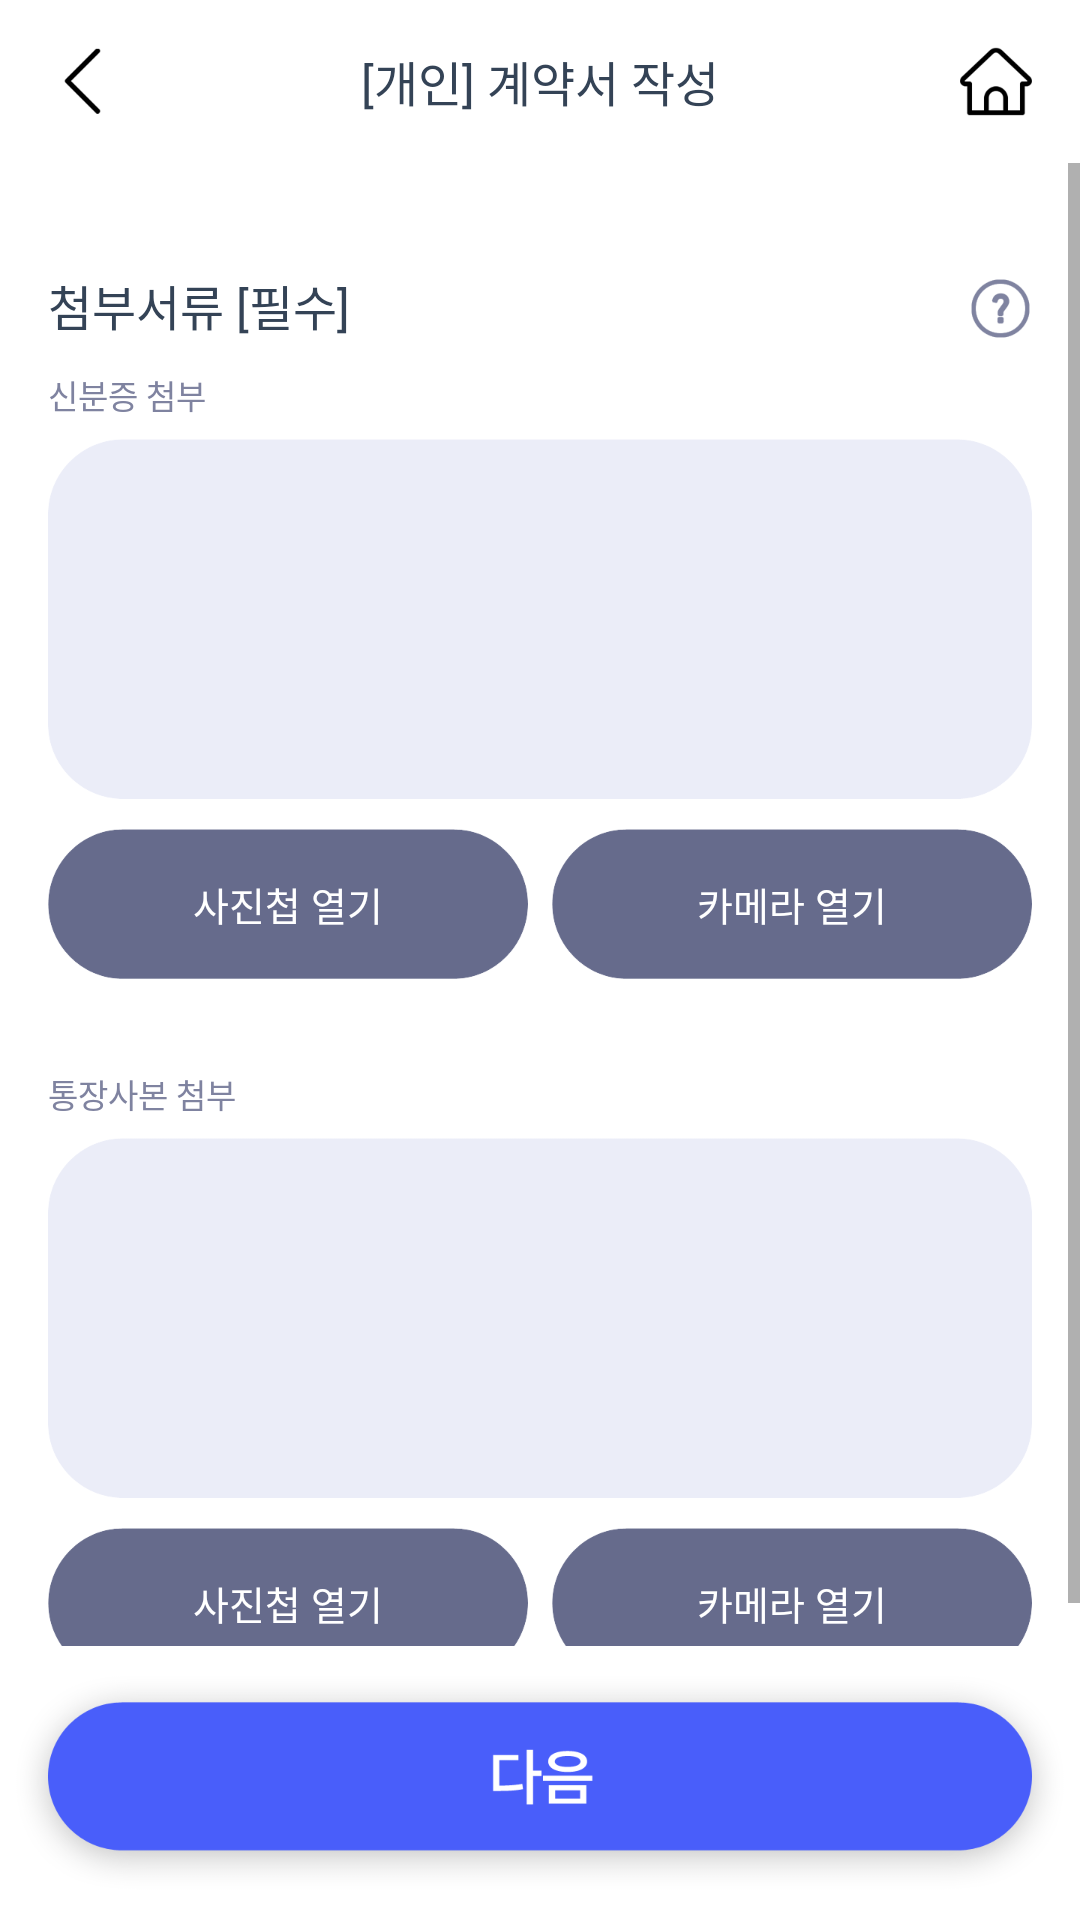

Screen size 1080 × 1920. Icon name, then its box in pixels as (x1, y1, x2, y2):
help: (971, 279, 1030, 338)
top back: (64, 48, 101, 114)
top home: (960, 47, 1032, 116)
